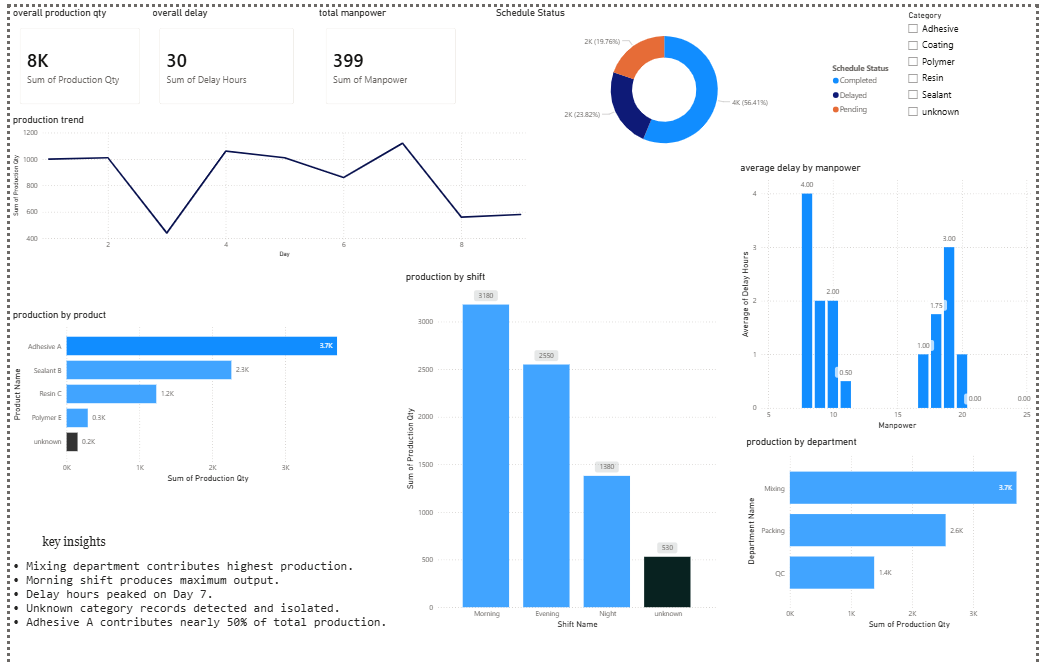

Layout of this report page (visuals, bound fields, positions):
{"tool":"powerbi","page":{"name":"Page 1","canvas":[1800,1200],"ordinal":0},"visuals":[{"type":"donutChart","title":" Schedule Status","fields":{"Category":["production fact.Schedule Status"],"Y":["Sum(production fact.Production Qty)"]},"box":[847.5,0,715,270],"z":0},{"type":"slicer","fields":{"Values":["product dim.Category"]},"box":[1562.5,0,237.5,270],"z":1000},{"type":"clusteredBarChart","title":"production by product ","fields":{"Y":["Sum(production fact.Production Qty)"],"Category":["product dim.Product Name"]},"box":[0,530,607.5,310],"z":2000},{"type":"clusteredBarChart","title":"production by department","fields":{"Category":["department dim.Department Name"],"Y":["Sum(production fact.Production Qty)"]},"box":[1287.5,752.5,512.5,342.5],"z":3000},{"type":"lineChart","title":"production trend ","fields":{"Category":["production fact.Date.Variation.Date Hierarchy.Day"],"Y":["Sum(production fact.Production Qty)"]},"box":[0,187.5,910,257.5],"z":4000},{"type":"cardVisual","title":"overall production qty","fields":{"Data":["Sum(production fact.Production Qty)"]},"box":[0,0,245,187.5],"z":5000},{"type":"cardVisual","title":"overall delay","fields":{"Data":["Sum(production fact.Delay Hours)"]},"box":[245,0,270,187.5],"z":6000},{"type":"cardVisual","title":"total manpower","fields":{"Data":["Sum(production fact.Manpower)"]},"box":[537.5,0,262.5,187.5],"z":7000},{"type":"lineClusteredColumnComboChart","title":"average delay by manpower","fields":{"Y":["Avg(production fact.Delay Hours)"],"Category":["production fact.Manpower"]},"box":[1277.5,270,522.5,475],"z":8000},{"type":"textbox","box":[0,920,1192.5,252.5],"z":9000},{"type":"clusteredColumnChart","title":"production by shift","fields":{"Category":["shift dim.Shift Name"],"Y":["Sum(production fact.Production Qty)"]},"box":[690,462.5,555,632.5],"z":10000}]}

Visuals, with their boxes on the page's 1800x1200 design canvas (x1, y1, x2, y2). These are canvas units, not pixel positions in the 1042x663 screenshot, which may show the page scaled, cropped or inside an application window:
" Schedule Status" donutChart: l=848, t=0, r=1562, b=270
slicer - product dim.Category: l=1562, t=0, r=1800, b=270
"production by product " clusteredBarChart: l=0, t=530, r=608, b=840
"production by department" clusteredBarChart: l=1288, t=752, r=1800, b=1095
"production trend " lineChart: l=0, t=188, r=910, b=445
"overall production qty" cardVisual: l=0, t=0, r=245, b=188
"overall delay" cardVisual: l=245, t=0, r=515, b=188
"total manpower" cardVisual: l=538, t=0, r=800, b=188
"average delay by manpower" lineClusteredColumnComboChart: l=1278, t=270, r=1800, b=745
textbox: l=0, t=920, r=1192, b=1172
"production by shift" clusteredColumnChart: l=690, t=462, r=1245, b=1095
